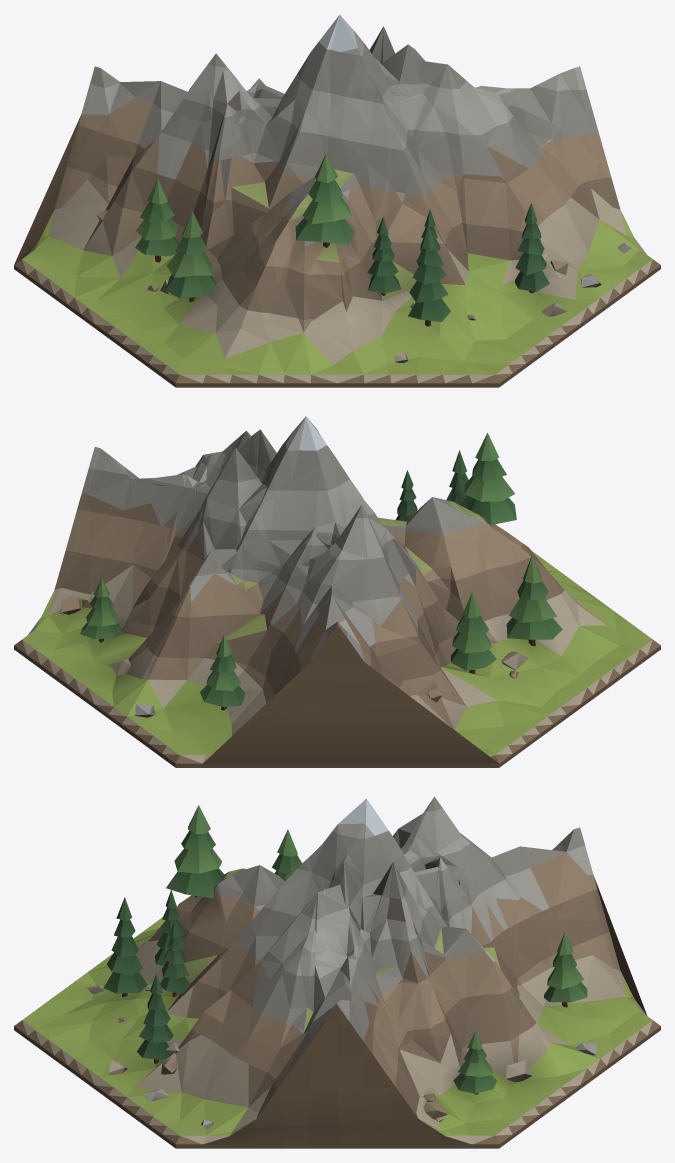
File: mountain_ridge_bend.glb
3 renders of one model, top to bottom at view 1: azimuth 30°, elevation 25°; view 2: azimuth 150°, elevation 25°; view 3: azimuth 270°, elevation 25°, orthographic.
Parts seen in each view (by area): view 1: mountain_ridge_bend; view 2: mountain_ridge_bend; view 3: mountain_ridge_bend.
Boxes of the visible parts, x1,y1,x2,y2 form: mountain_ridge_bend: (14,14,660,387); mountain_ridge_bend: (14,416,660,767); mountain_ridge_bend: (14,796,660,1148).
Size of the model in its own units: 17.32 by 8.19 by 20.
